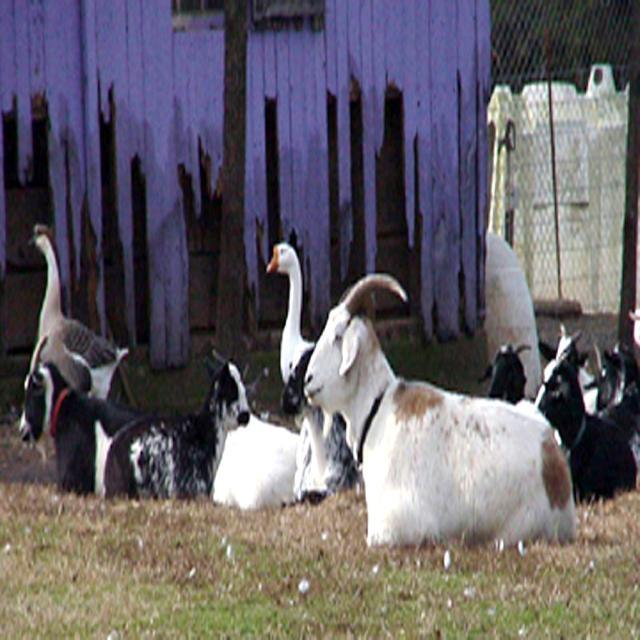Goat: (303, 267, 580, 553)
